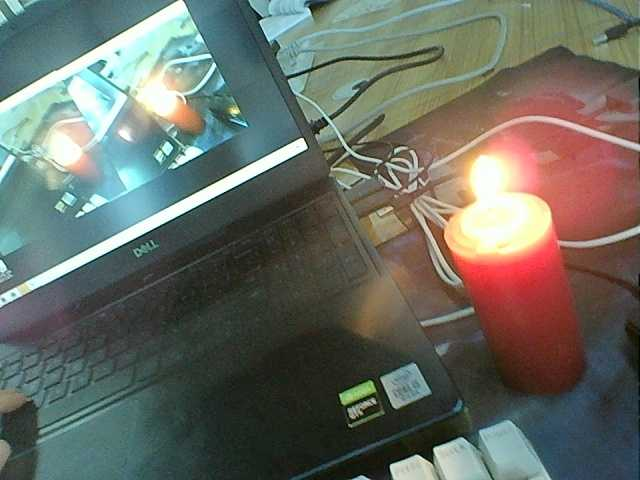candle: (449, 218, 589, 395), (162, 102, 209, 137), (66, 158, 103, 187)
fire: (440, 147, 541, 249), (34, 124, 90, 169), (147, 79, 183, 129)
